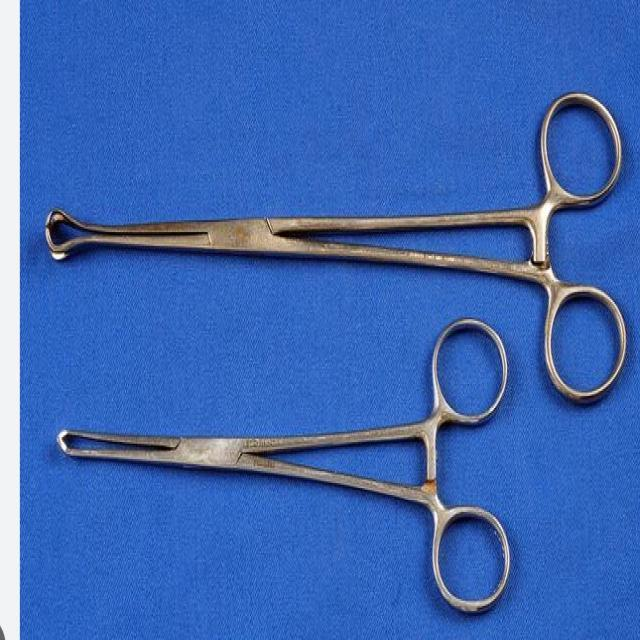Babcock Forceps: (38, 71, 632, 407), (31, 320, 516, 618)
